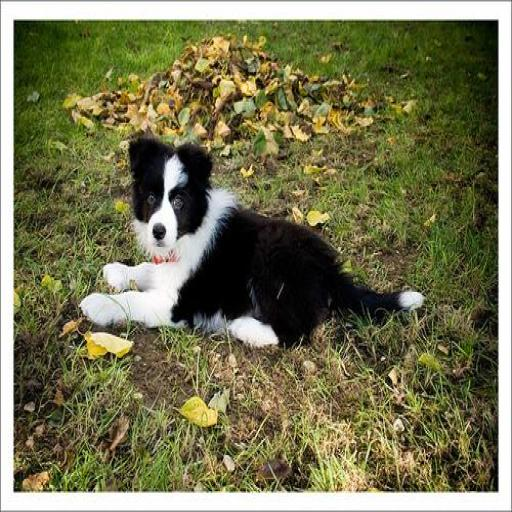dog_face: (126, 136, 216, 256)
